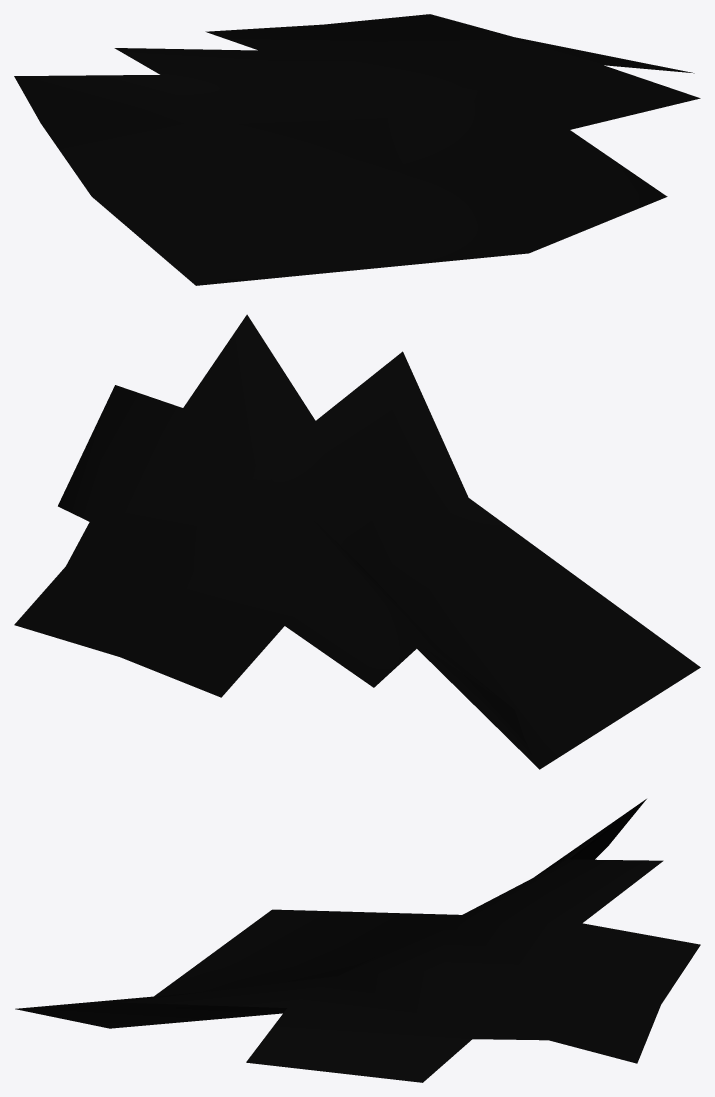
The model's file is HTOWN01_TREESHADOWS21.fbx.
3 renders of one model, top to bottom at view 1: azimuth 30°, elevation 25°; view 2: azimuth 150°, elevation 25°; view 3: azimuth 270°, elevation 25°, orthographic. The views are drawn at different scales.
Parts seen in each view (by area): view 1: HTOWN01_TREESHADOWS21; view 2: HTOWN01_TREESHADOWS21; view 3: HTOWN01_TREESHADOWS21.
Boxes of the visible parts, x1,y1,x2,y2 form: HTOWN01_TREESHADOWS21: (14, 14, 700, 285); HTOWN01_TREESHADOWS21: (14, 314, 700, 769); HTOWN01_TREESHADOWS21: (15, 799, 700, 1082).
Bounding box in the file's own units: 233248 × 57936 × 244918.
Materials: 1 (1 with a texture image).
